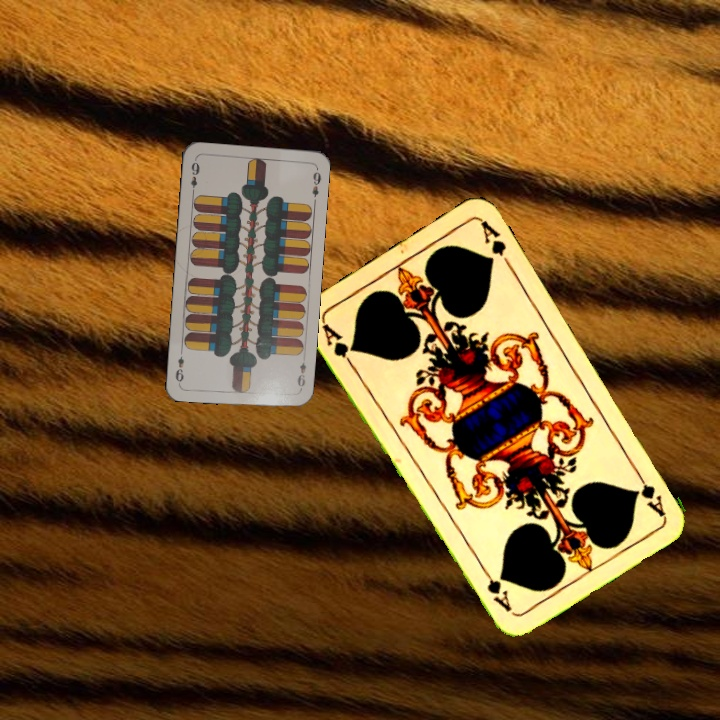E9: (293, 353, 309, 394), (186, 158, 202, 197)
GA: (317, 319, 358, 371), (630, 464, 668, 519)
